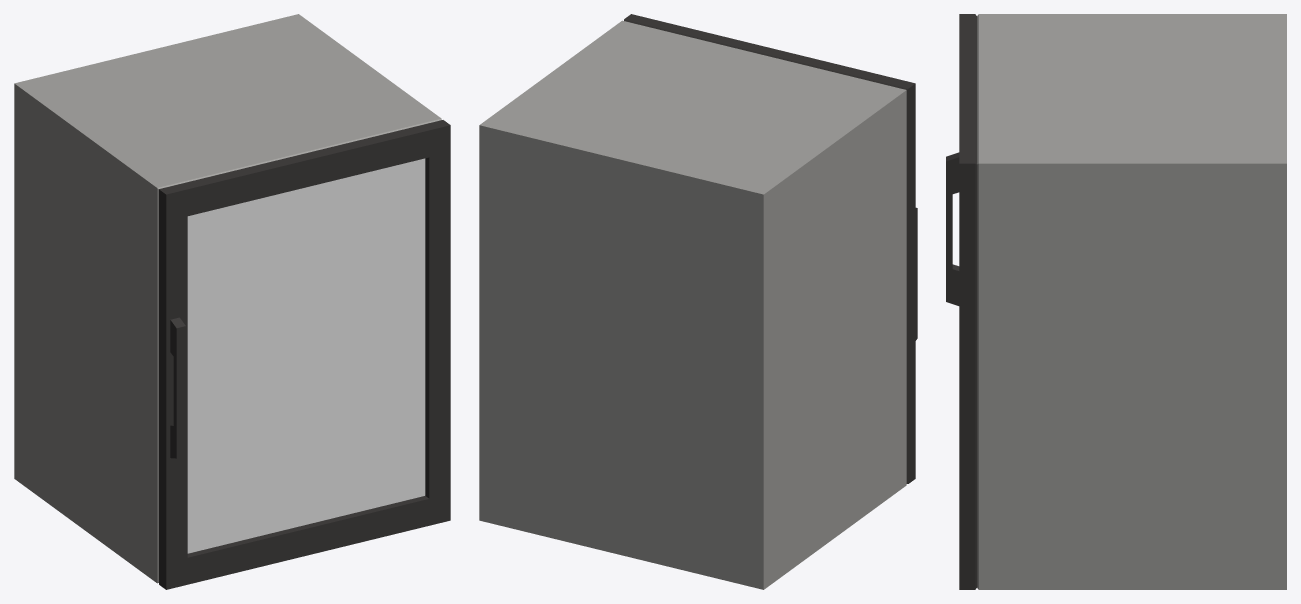
Rendered from SM_Props_Interior_SuperMarket_Fridge_Mini_Preset_02.fbx.
3 views of the same model, side by side, from view 1: azimuth 30°, elevation 25°; view 2: azimuth 150°, elevation 25°; view 3: azimuth 270°, elevation 25° (orthographic). The views are drawn at different scales.
Parts seen in each view (by area): view 1: SM_Props_Interior_SuperMarket_Fridge_Mini_Preset_02_Door, SM_Props_Interior_SuperMarket_Fridge_Mini_Preset_02; view 2: SM_Props_Interior_SuperMarket_Fridge_Mini_Preset_02, SM_Props_Interior_SuperMarket_Fridge_Mini_Preset_02_Door; view 3: SM_Props_Interior_SuperMarket_Fridge_Mini_Preset_02, SM_Props_Interior_SuperMarket_Fridge_Mini_Preset_02_Door.
Part boxes in pixels (x1,y1,x2,y2): SM_Props_Interior_SuperMarket_Fridge_Mini_Preset_02_Door: [159, 120, 450, 589]; SM_Props_Interior_SuperMarket_Fridge_Mini_Preset_02: [14, 14, 441, 583]; SM_Props_Interior_SuperMarket_Fridge_Mini_Preset_02: [479, 20, 906, 589]; SM_Props_Interior_SuperMarket_Fridge_Mini_Preset_02_Door: [624, 14, 917, 483]; SM_Props_Interior_SuperMarket_Fridge_Mini_Preset_02: [977, 14, 1286, 589]; SM_Props_Interior_SuperMarket_Fridge_Mini_Preset_02_Door: [946, 14, 976, 589].
Bounding box in the file's own units: 64 × 85 × 61.6.
